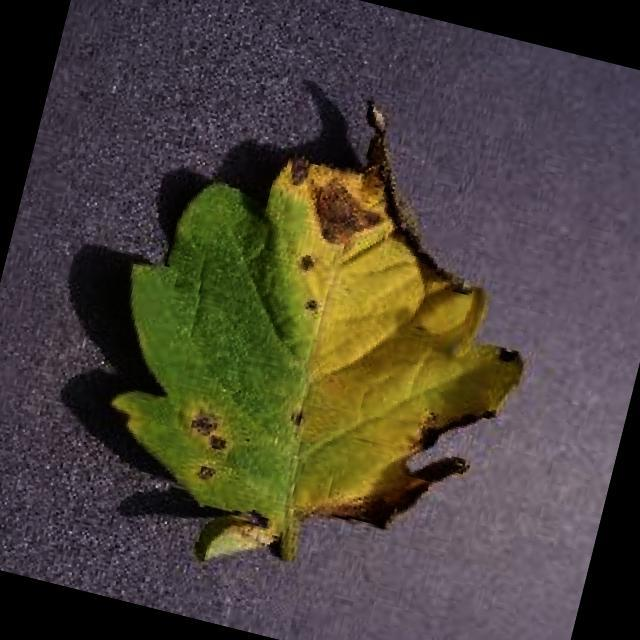Tomato Septoria spot leaf: (61, 51, 576, 624)
